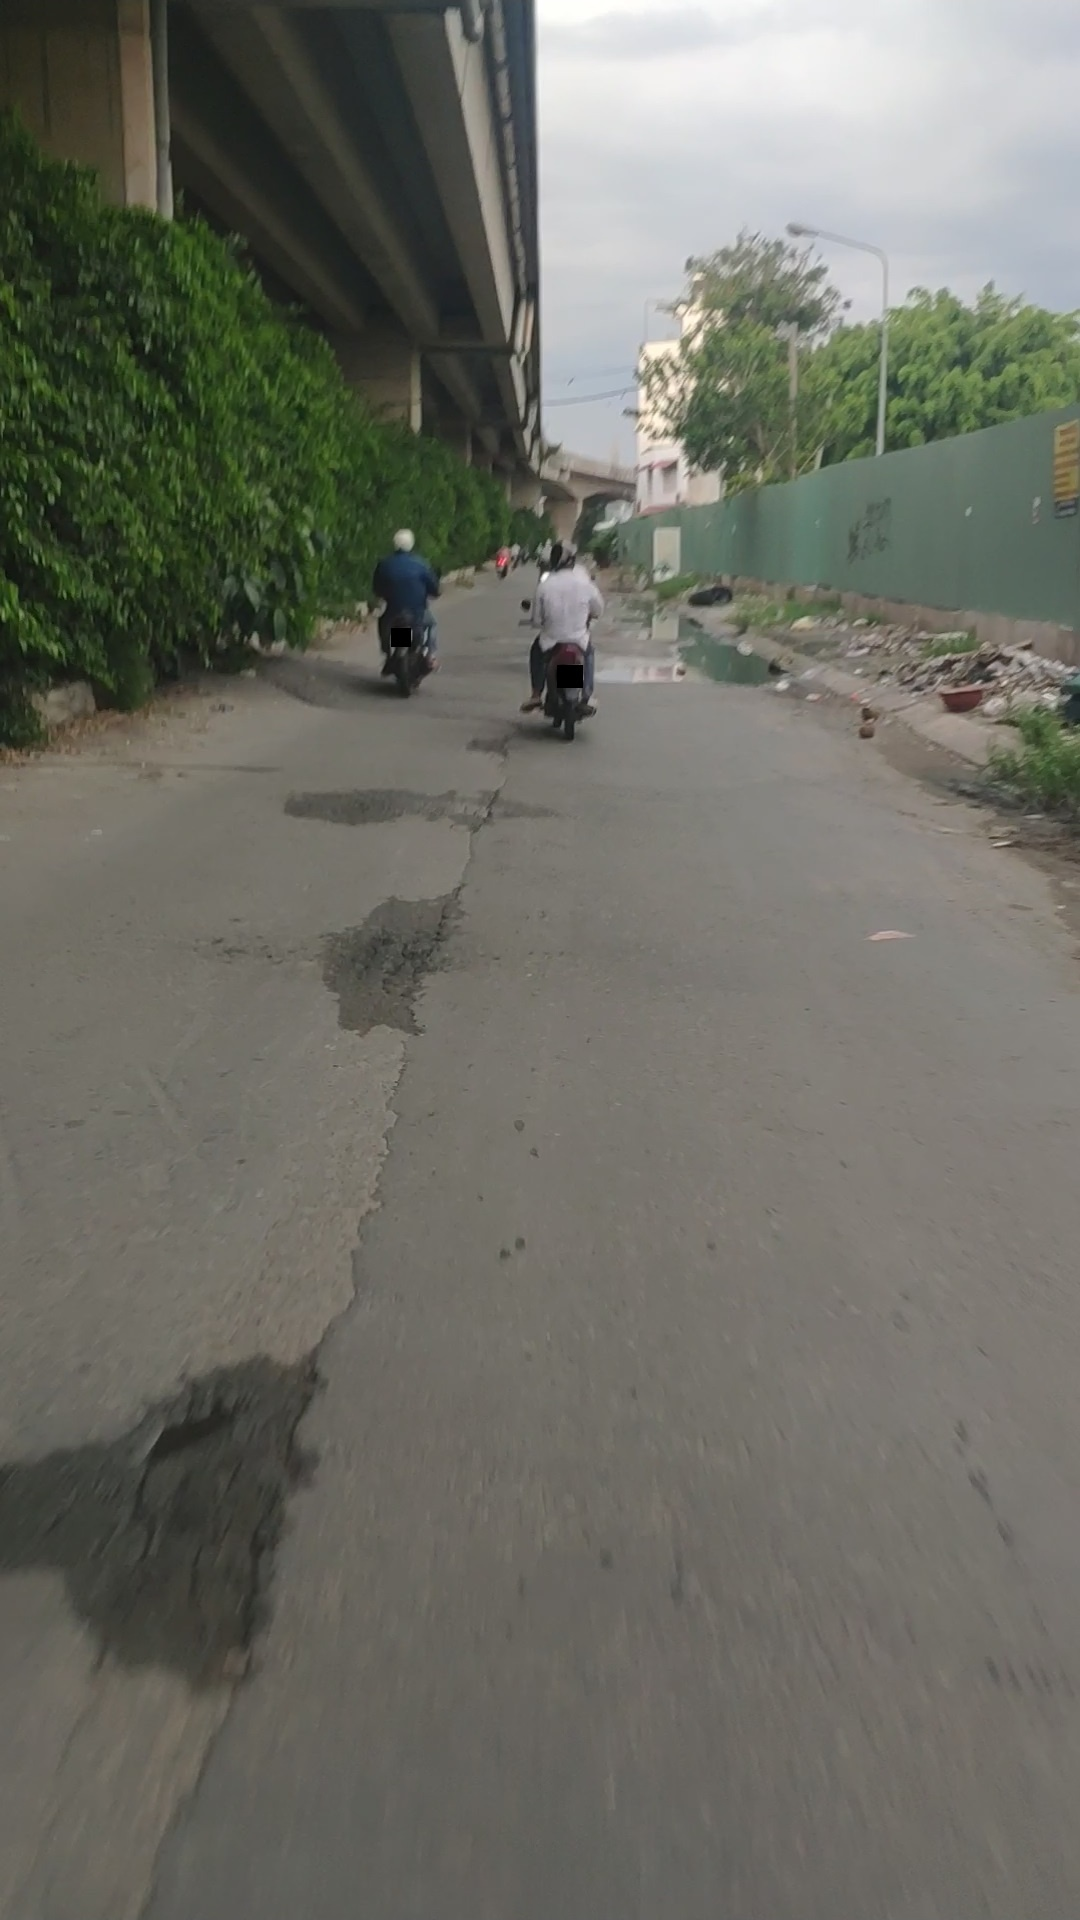hole: (36, 1377, 297, 1665), (314, 905, 462, 1039)
